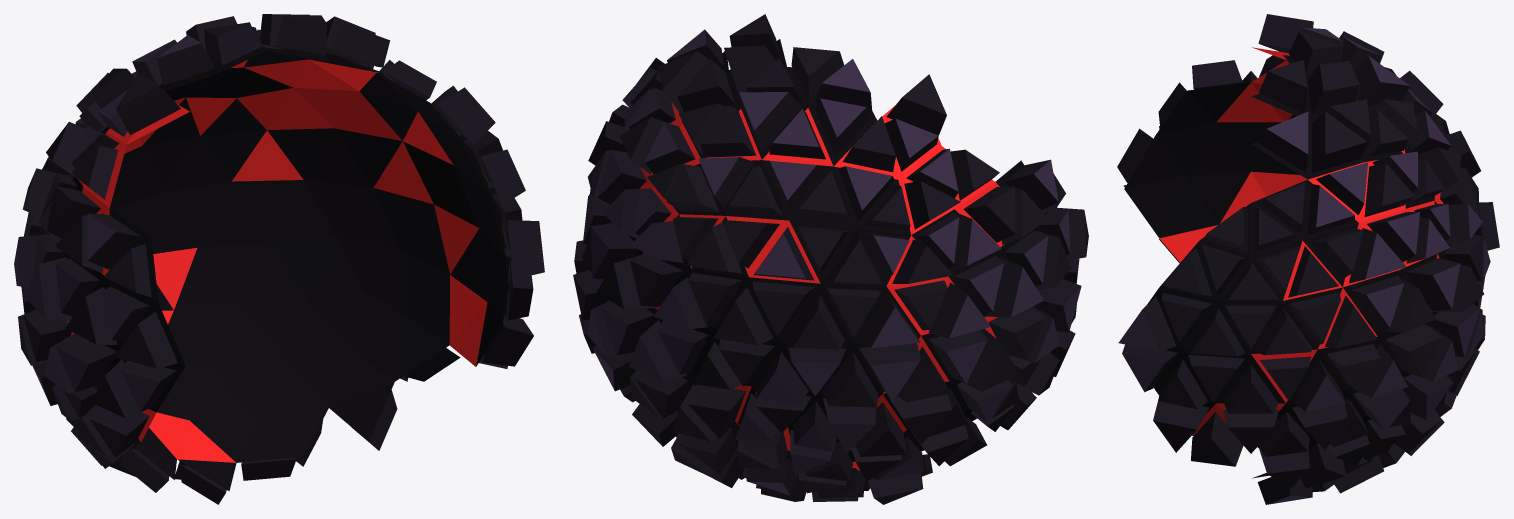
Rendered from BossEyeShell.obj.
The picture shows the model from 3 angles, left to right: view 1: azimuth 30°, elevation 25°; view 2: azimuth 150°, elevation 25°; view 3: azimuth 270°, elevation 25°; orthographic projection. The views are drawn at different scales.
Parts seen in each view (by area): view 1: BossEyeShell; view 2: BossEyeShell; view 3: BossEyeShell.
Boxes of the visible parts, <box> form: BossEyeShell: <box>14,14,544,504</box>; BossEyeShell: <box>573,14,1088,504</box>; BossEyeShell: <box>1117,14,1499,504</box>.
Size of the model in its own units: 6.52 by 6.32 by 5.09.
